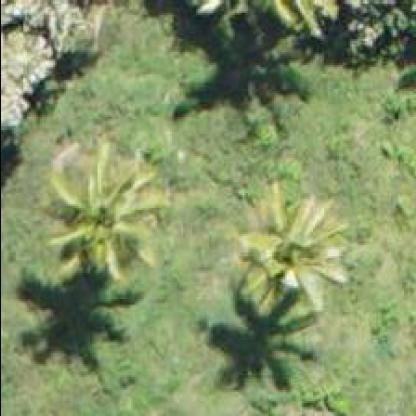coconut tree: (44, 145, 166, 267), (235, 186, 344, 320)
